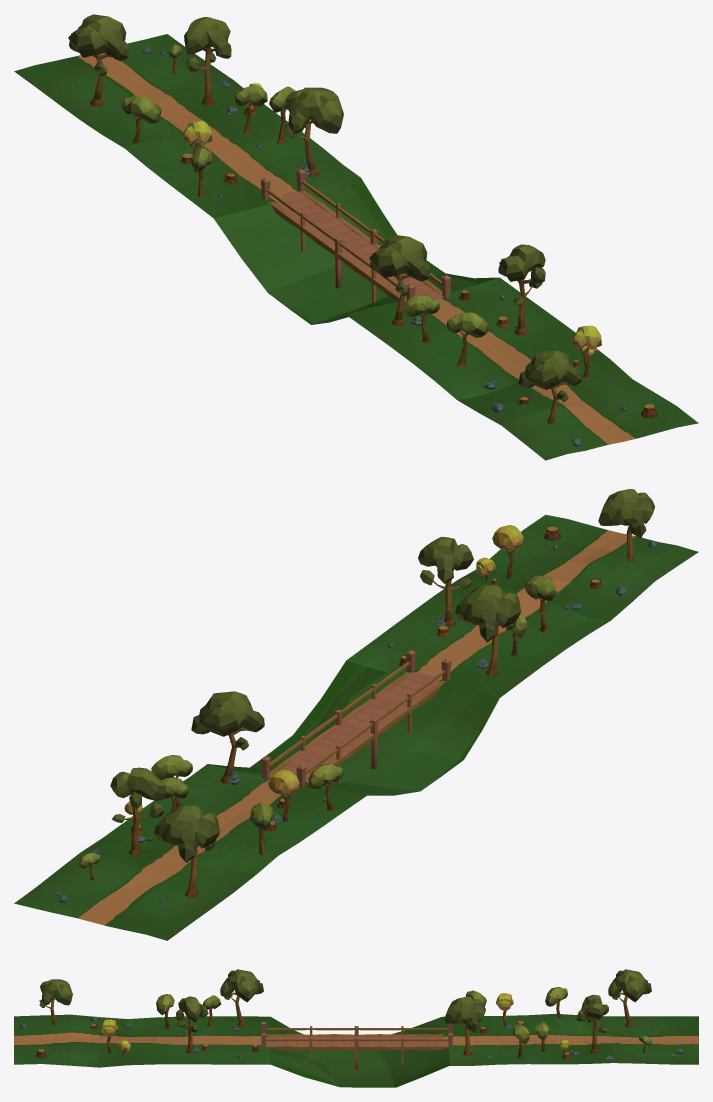
Rendered from cenario2 1.fbx.
The picture shows the model from 3 angles, top to bottom: view 1: azimuth 30°, elevation 25°; view 2: azimuth 150°, elevation 25°; view 3: azimuth 270°, elevation 25°; orthographic projection. The views are drawn at different scales.
Parts seen in each view (by area): view 1: Cenario2Ground, Ponte, Arvore.005, Arvore.006, Arvore.021, Arvore.008, Arvore.007, Arvore.009, Arvore.020, Arvore.015, Arvore.017, Arvore.018 (+1 smaller); view 2: Cenario2Ground, Ponte, Arvore.005, Arvore.006, Arvore.021, Arvore.009, Arvore.008, Arvore.007, Arvore.020, Arvore.013, Arvore.018, Arvore.010 (+1 smaller); view 3: Cenario2Ground, Ponte, Arvore.005, Arvore.006, Arvore.021, Arvore.009, Arvore.007, Arvore.008, Arvore.015, Arvore.020, Arvore.013, Arvore.018 (+3 smaller).
Boxes of the visible parts, x1,y1,x2,y2 form: Cenario2Ground: (14,34,698,460); Ponte: (261,169,451,303); Arvore.005: (284,87,343,176); Arvore.006: (68,14,128,106); Arvore.021: (369,234,429,325); Arvore.008: (184,17,231,105); Arvore.007: (518,350,582,423); Arvore.009: (498,244,545,335); Arvore.020: (446,312,487,366); Arvore.015: (121,95,161,143); Arvore.017: (403,294,439,342); Arvore.018: (572,325,601,378); Cenario2Ground: (14,514,698,940); Ponte: (261,650,451,787); Arvore.005: (191,691,264,783); Arvore.006: (154,805,220,897); Arvore.021: (455,585,521,675); Arvore.009: (418,537,473,627); Arvore.008: (110,767,166,855); Arvore.007: (598,489,654,561); Arvore.020: (524,575,556,632); Arvore.013: (151,755,192,807); Arvore.018: (492,525,523,578); Arvore.010: (268,770,299,821); Cenario2Ground: (14,1013,698,1087); Ponte: (261,1021,452,1070); Arvore.005: (444,996,485,1055); Arvore.006: (608,969,651,1027); Arvore.021: (220,969,263,1026); Arvore.009: (176,996,208,1053); Arvore.007: (39,979,72,1024); Arvore.008: (576,994,608,1053); Arvore.015: (545,987,567,1017); Arvore.020: (156,994,174,1028); Arvore.013: (513,1023,529,1058); Arvore.018: (100,1019,118,1052).
Size of the model in its own units: 1000 by 780 by 6001.
